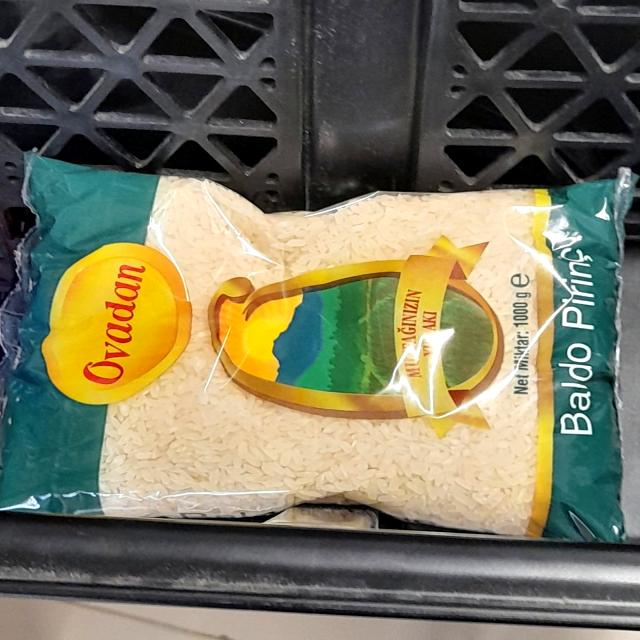rice: (21, 161, 640, 564)
